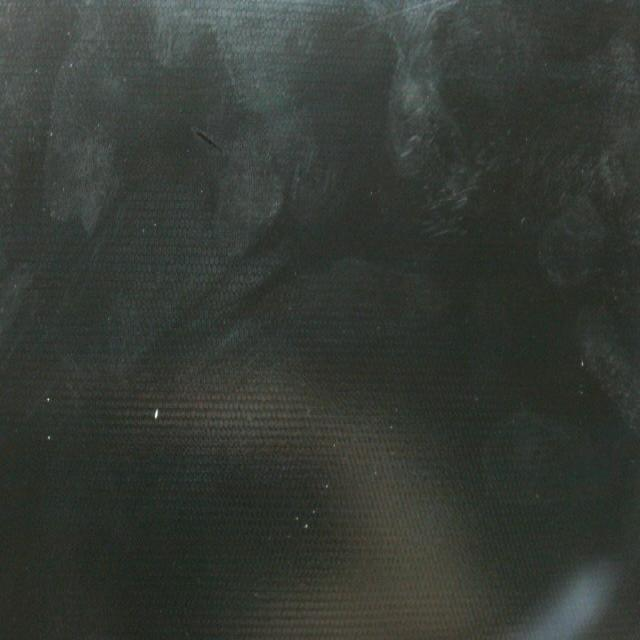scratch: (189, 122, 231, 163)
